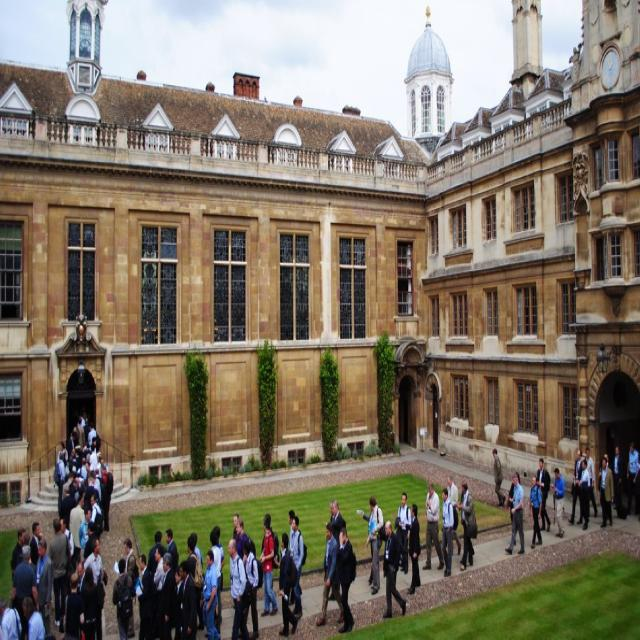body: (54, 410, 114, 514), (314, 518, 346, 629), (48, 517, 72, 629), (82, 535, 107, 640), (226, 536, 251, 639), (382, 518, 407, 620), (336, 526, 358, 634), (278, 531, 300, 639), (258, 513, 280, 618), (366, 494, 388, 598), (420, 477, 444, 572), (456, 478, 478, 572), (289, 514, 308, 622), (200, 548, 222, 639), (112, 557, 136, 640), (242, 541, 262, 640), (184, 534, 204, 631), (177, 556, 200, 639), (12, 544, 40, 612), (504, 472, 525, 558), (158, 549, 178, 639), (35, 538, 53, 636), (61, 571, 85, 640), (441, 487, 459, 578), (287, 508, 303, 608), (393, 490, 412, 574), (360, 498, 377, 586), (79, 564, 98, 640), (123, 536, 137, 639), (9, 525, 27, 602), (406, 503, 421, 595), (526, 474, 544, 550), (446, 472, 462, 556), (596, 456, 614, 530), (566, 447, 583, 525), (20, 590, 47, 639), (209, 528, 223, 622), (535, 456, 552, 533), (68, 493, 86, 564), (146, 530, 169, 579), (234, 516, 257, 564), (551, 466, 566, 539), (625, 439, 639, 516), (577, 457, 591, 531), (584, 446, 598, 518), (100, 462, 114, 533), (134, 552, 148, 622), (492, 447, 508, 508), (173, 566, 186, 640), (0, 598, 22, 640), (78, 505, 93, 564), (506, 470, 522, 524), (612, 445, 624, 511), (212, 525, 226, 576), (74, 561, 88, 612), (29, 520, 44, 566), (260, 509, 274, 558), (88, 493, 103, 538), (59, 517, 75, 557), (82, 520, 95, 566), (165, 527, 179, 569), (154, 544, 166, 590), (190, 531, 204, 570), (330, 499, 346, 533), (232, 512, 241, 542), (603, 452, 613, 476), (327, 498, 335, 522)
